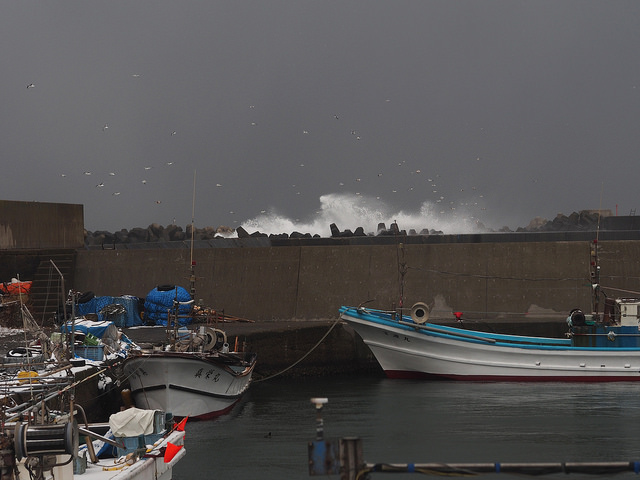fishing_boat: (344, 260, 636, 380), (129, 259, 260, 416)
